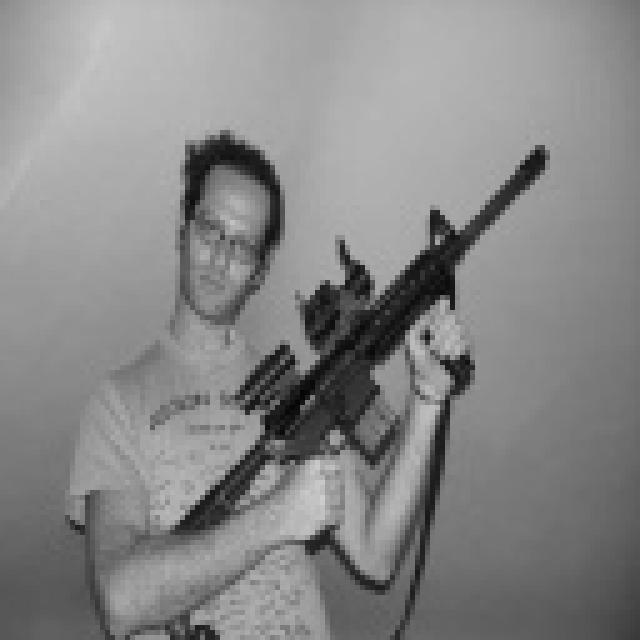Rifle: (159, 133, 563, 574)
